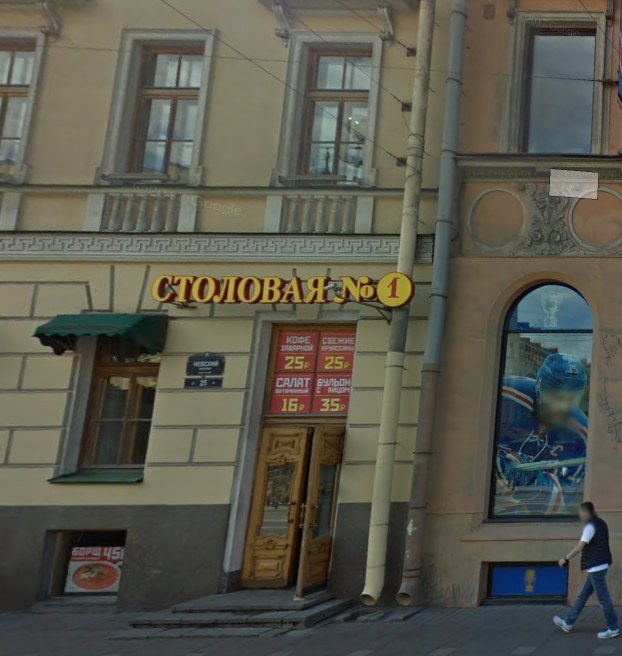door: (238, 417, 346, 590)
signboard: (144, 263, 419, 316)
window: (499, 328, 586, 516), (80, 326, 154, 466), (301, 41, 360, 182), (131, 43, 190, 184), (528, 26, 594, 151)
